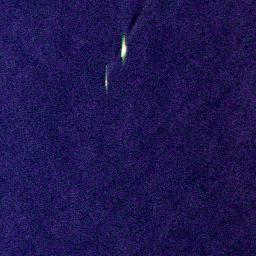Ship: (118, 35, 129, 60), (103, 73, 108, 89)
